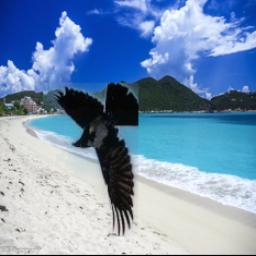Crow: (44, 84, 140, 237)
